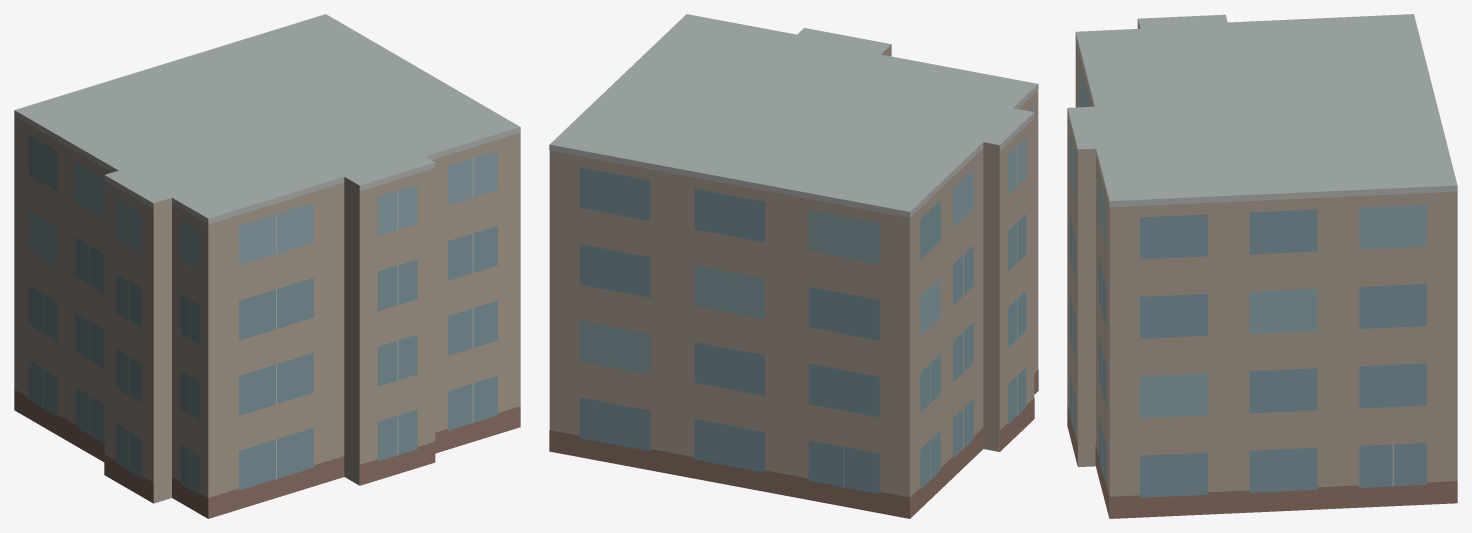
Rendered from survey-upis-32823128.glb.
The picture shows the model from 3 angles, left to right: view 1: azimuth 30°, elevation 25°; view 2: azimuth 150°, elevation 25°; view 3: azimuth 270°, elevation 25°; orthographic projection. The views are drawn at different scales.
Parts seen in each view (by area): view 1: survey-upis-32823128.tmp; view 2: survey-upis-32823128.tmp; view 3: survey-upis-32823128.tmp.
Part boxes in pixels (left/top/right/bottom): survey-upis-32823128.tmp: left=14, top=14, right=520, bottom=518; survey-upis-32823128.tmp: left=549, top=14, right=1038, bottom=518; survey-upis-32823128.tmp: left=1067, top=14, right=1457, bottom=518.
Bounding box in the file's own units: 16.05 × 12.7 × 14.15.
